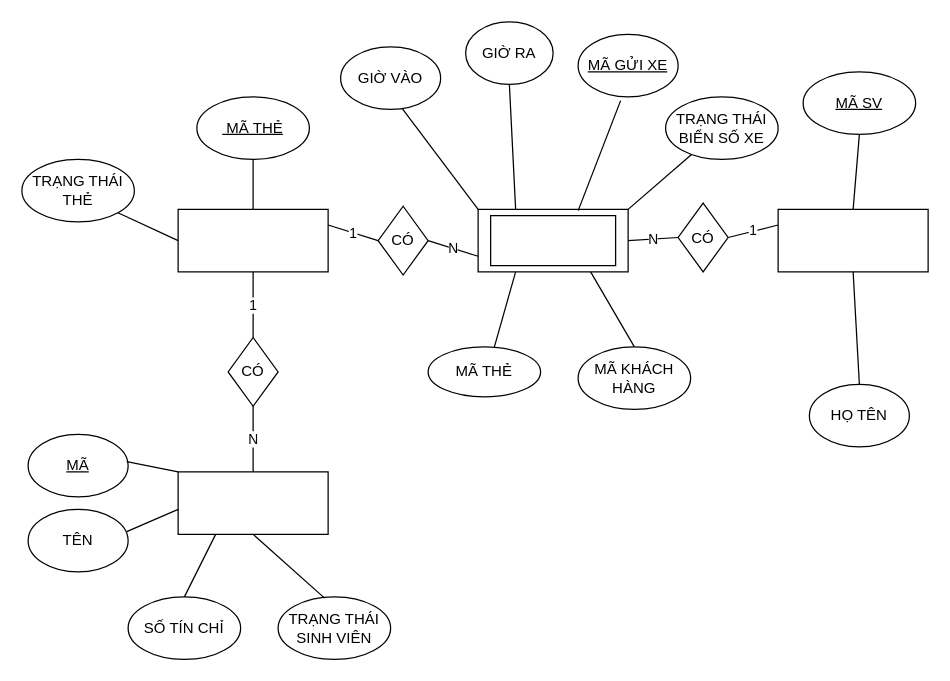
Some shapes in this 950 by 681 pixel diagram are drawn without their labels. The centre of each missing label's shape, as x and y in pixels:
GỬI XE: (552,240)
KHÁCH HÀNG: (852,240)
LOẠI THẺ: (252,502)
THẺ: (252,240)
